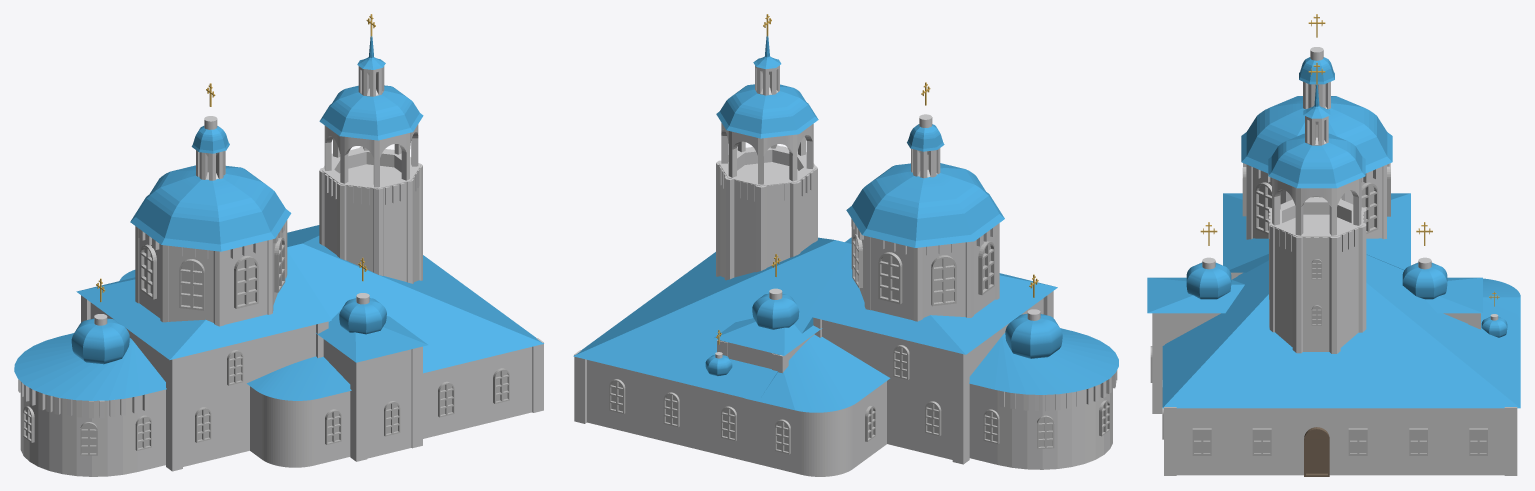
The model's file is spasskiy2.glb.
3 renders of one model, left to right at view 1: azimuth 30°, elevation 25°; view 2: azimuth 150°, elevation 25°; view 3: azimuth 270°, elevation 25°, orthographic. The views are drawn at different scales.
Visible parts, largest first — view 1: Cube.105, Cube.008, Cylinder.004, Cube.082, Cube.021, Cylinder.015; view 2: Cube.008, Cube.105, Cylinder.004, Cube.082, Cube.021, Cylinder.015; view 3: Cube.008, Cube.105, Cube.082, Cylinder.004, Cube.021, Cylinder.015, Cube.098, Cube.070, Cube.011.
Part boxes in pixels (<box>): Cube.105: <box>18,295,543,476</box>; Cube.008: <box>14,225,543,400</box>; Cylinder.004: <box>71,36,423,364</box>; Cube.082: <box>319,66,422,283</box>; Cube.021: <box>23,237,509,455</box>; Cylinder.015: <box>135,116,287,326</box>; Cube.008: <box>573,237,1118,412</box>; Cube.105: <box>574,291,1117,476</box>; Cylinder.004: <box>705,36,1062,376</box>; Cube.082: <box>716,65,817,280</box>; Cube.021: <box>609,234,1110,454</box>; Cylinder.015: <box>851,114,999,321</box>; Cube.008: <box>1147,193,1520,408</box>; Cube.105: <box>1152,272,1517,475</box>; Cube.082: <box>1268,116,1366,353</box>; Cylinder.004: <box>1186,57,1507,337</box>; Cube.021: <box>1150,163,1487,455</box>; Cylinder.015: <box>1243,47,1389,239</box>; Cube.098: <box>1304,427,1329,476</box>; Cube.070: <box>1275,408,1343,424</box>; Cube.011: <box>1200,14,1499,306</box>.
Size of the model in its own units: 4.12 by 3.21 by 2.97.
